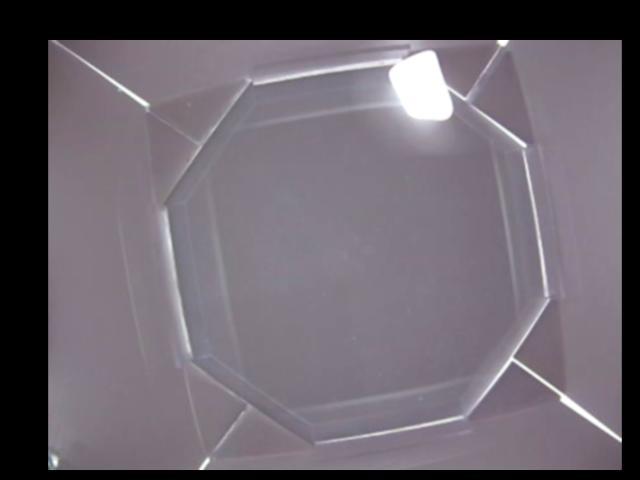Pebble: (389, 52, 449, 119)
